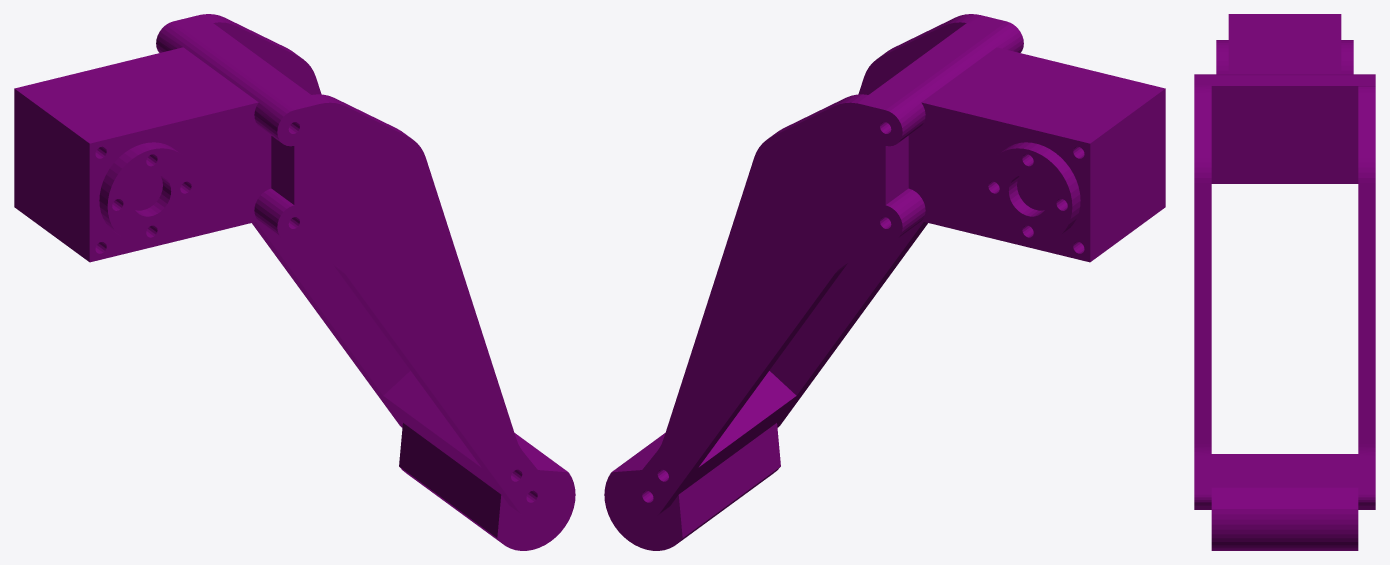
Rendered from hexy_urdf_v2_7_Tibia_2_vis_1.dae.
3 views of the same model, side by side, from view 1: azimuth 30°, elevation 25°; view 2: azimuth 150°, elevation 25°; view 3: azimuth 270°, elevation 25° (orthographic). The views are drawn at different scales.
Visible parts, largest first — view 1: node; view 2: node; view 3: node.
Part boxes in pixels (box(x1,y1,x2,y2)): node: box(14, 14, 575, 550); node: box(604, 14, 1165, 550); node: box(1194, 14, 1375, 550).
Bounding box in the file's own units: 0.4178 × 0.4285 × 0.185.
